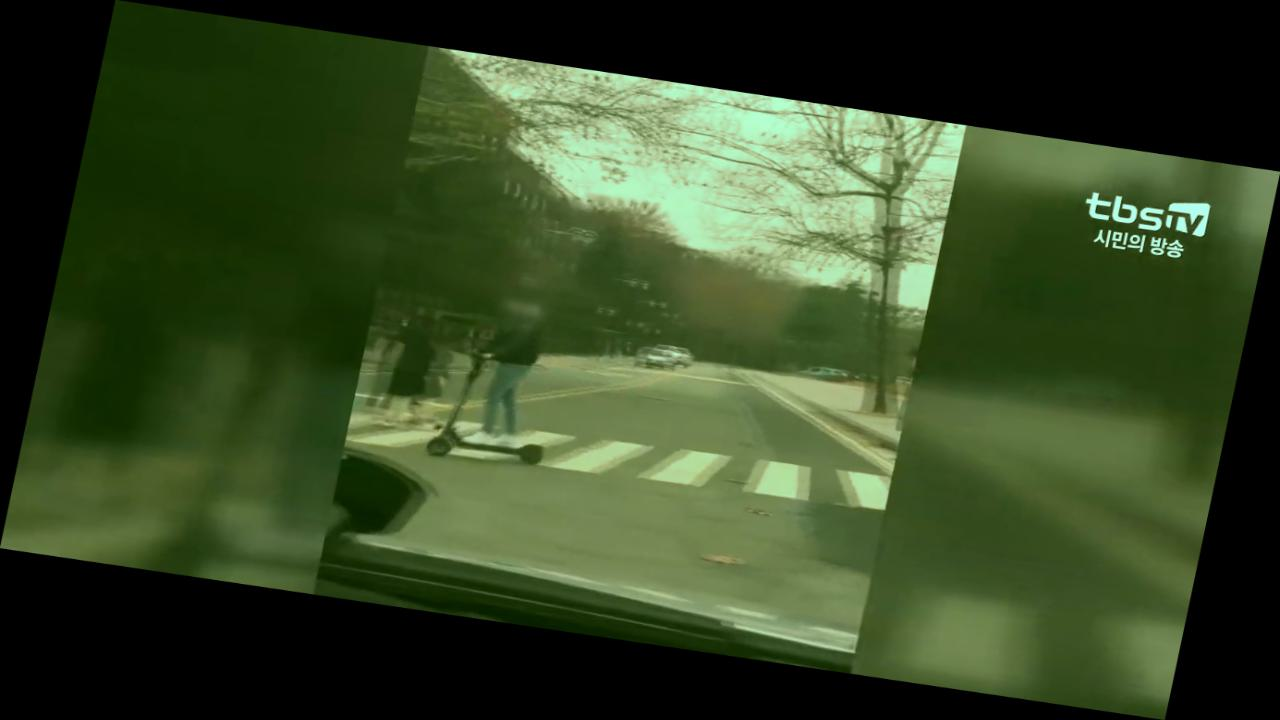nonhelmet: (422, 277, 582, 477)
